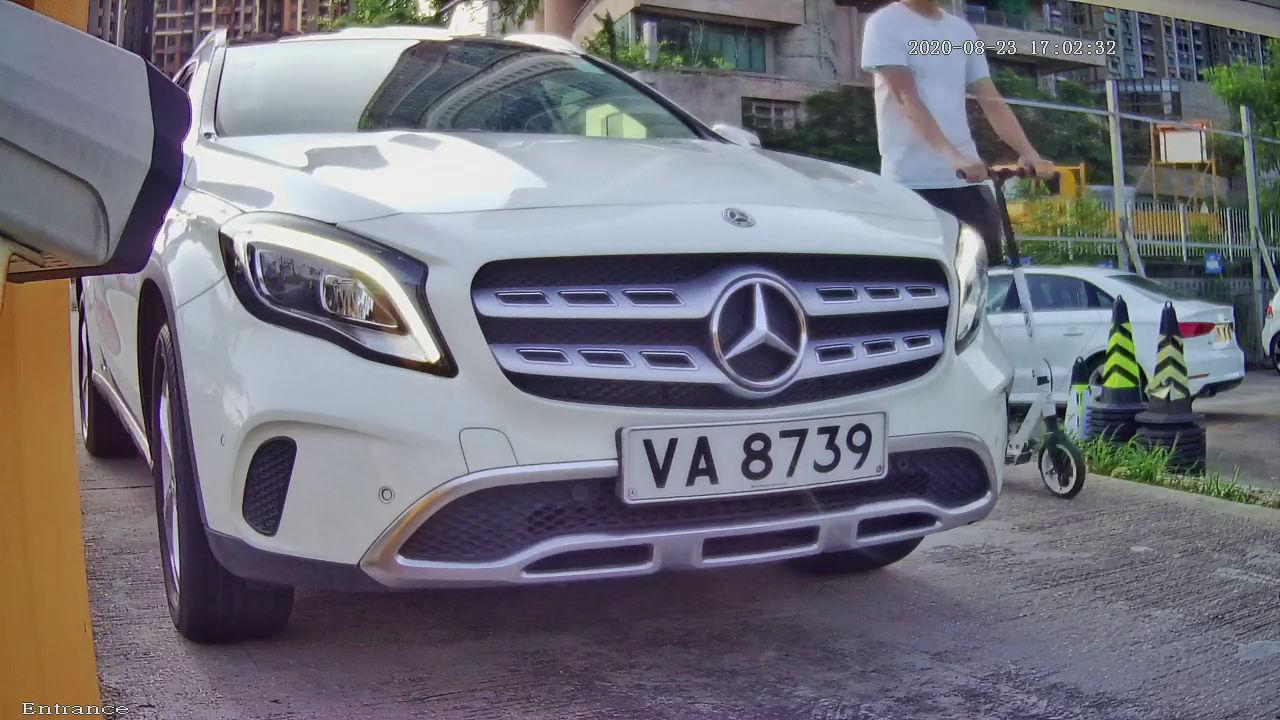Car: (23, 10, 1121, 666)
License Plate: (606, 399, 909, 512)
